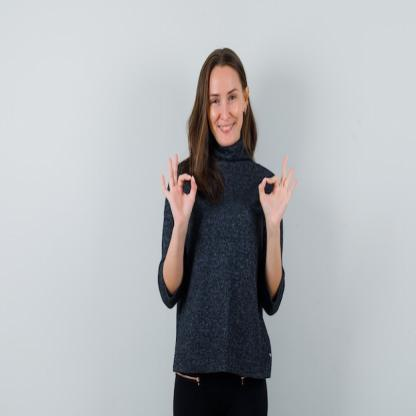ok: (158, 150, 200, 226), (258, 152, 300, 226)
